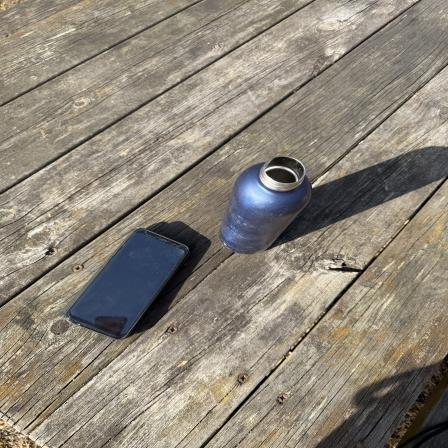blue_bottle: (222, 152, 312, 258)
phone: (66, 226, 194, 341)
